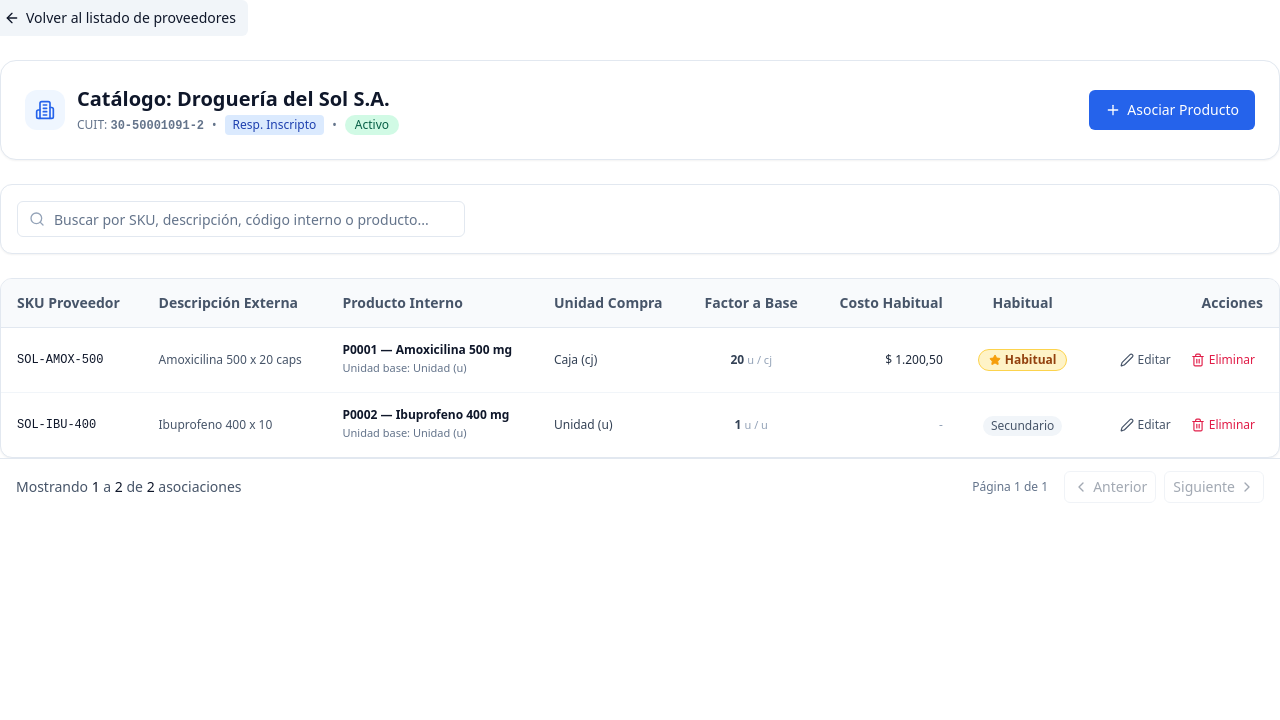
Test: SupplierCatalogPage Integration Suite › opens edit modal with preloaded values, displays read-only product and submits updates
Expected: the text "SOL-AMOX-500" is shown, [1,328,142,392]
Step 1. Click the button "Editar" in the row of "SOL-AMOX-500" → [1145, 360], box [1112,344,1179,376]
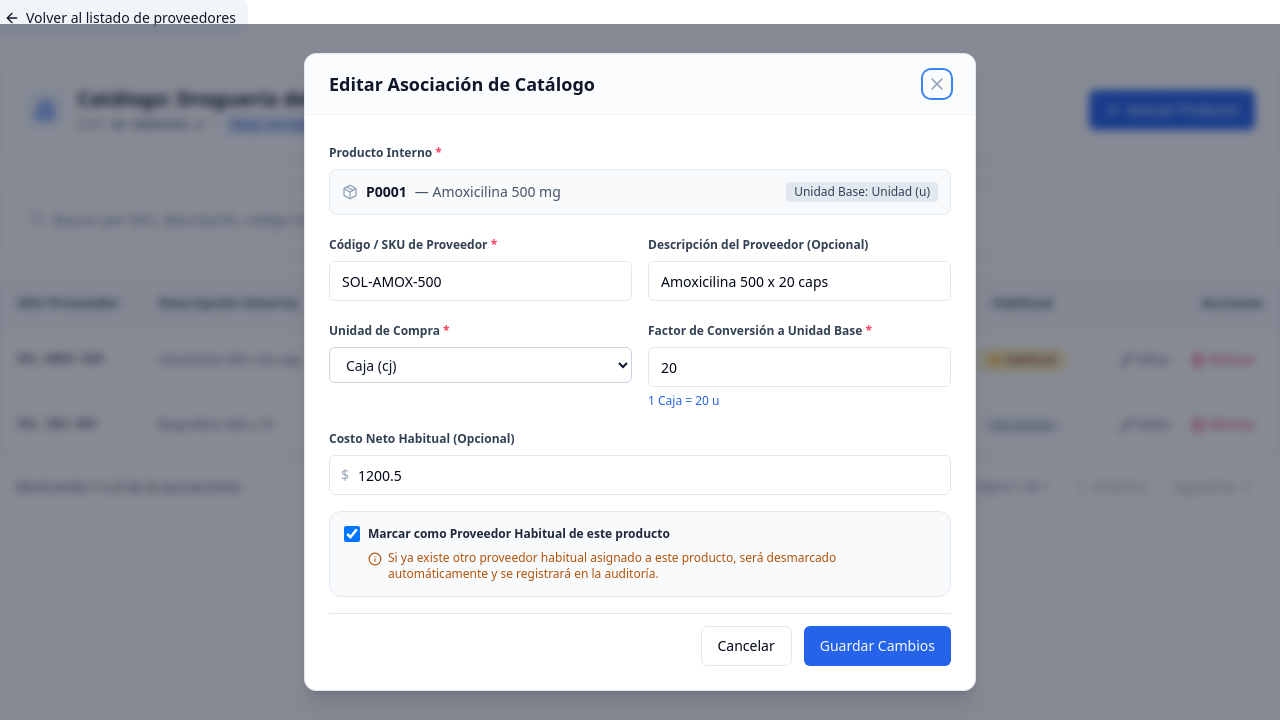
Expected: the heading "Editar Asociación de Catálogo" is shown, [329,70,595,98]
Expected: the text "P0001" is shown, [366,182,407,202]
Step 2. Replace the text in the field labelled "Descripción del Proveedor (Opcional)" with "Descripción actualizada" → [800, 281], box [648,261,951,301]
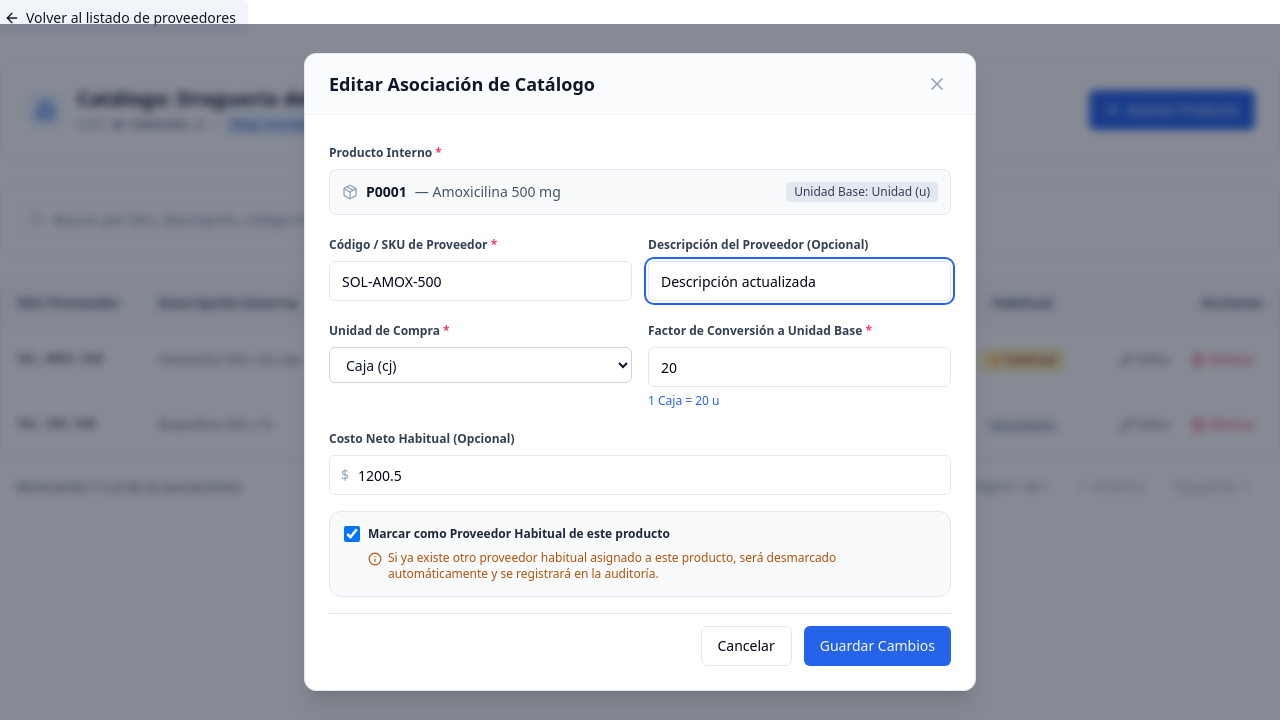
Step 3. Click the button "Guardar Cambios" → [877, 646], box [804,626,951,666]
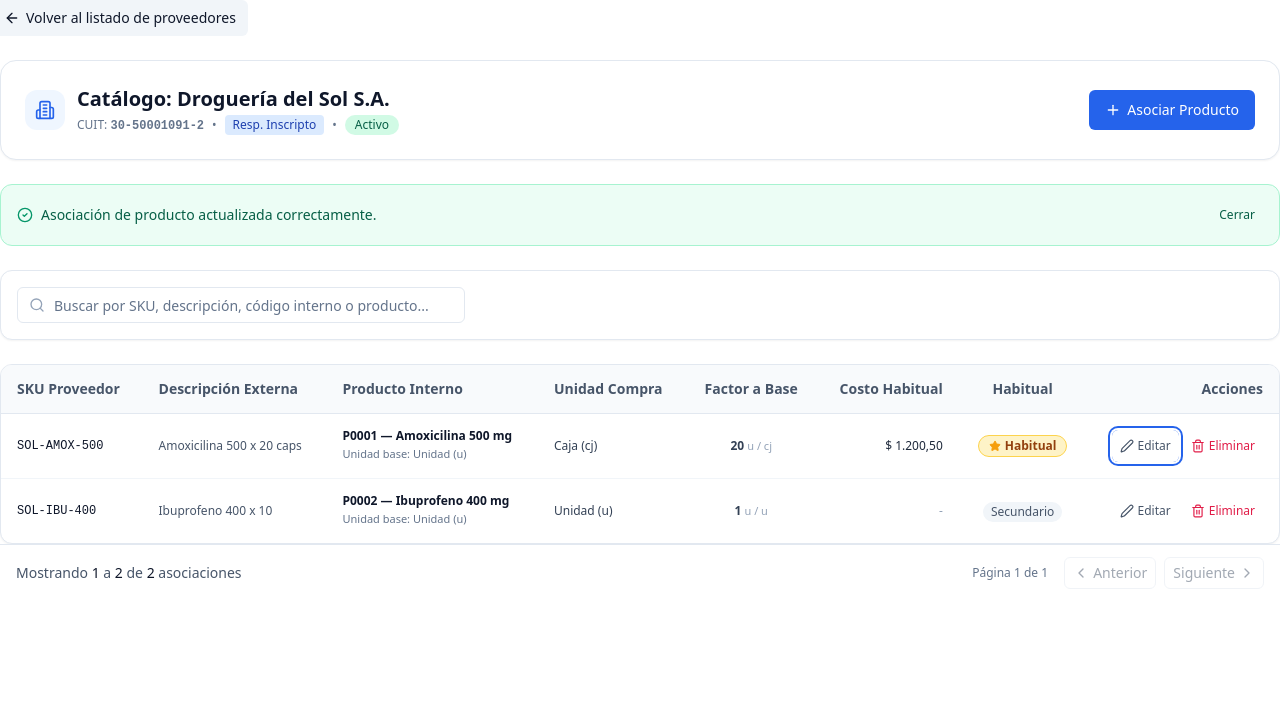
Expected: the text "Asociación de producto actualizada correctamente." is shown, [41,205,376,225]
